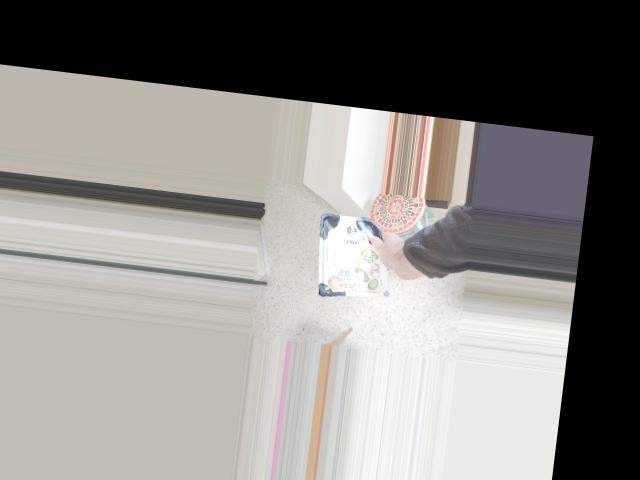cheese: (328, 215, 422, 306)
